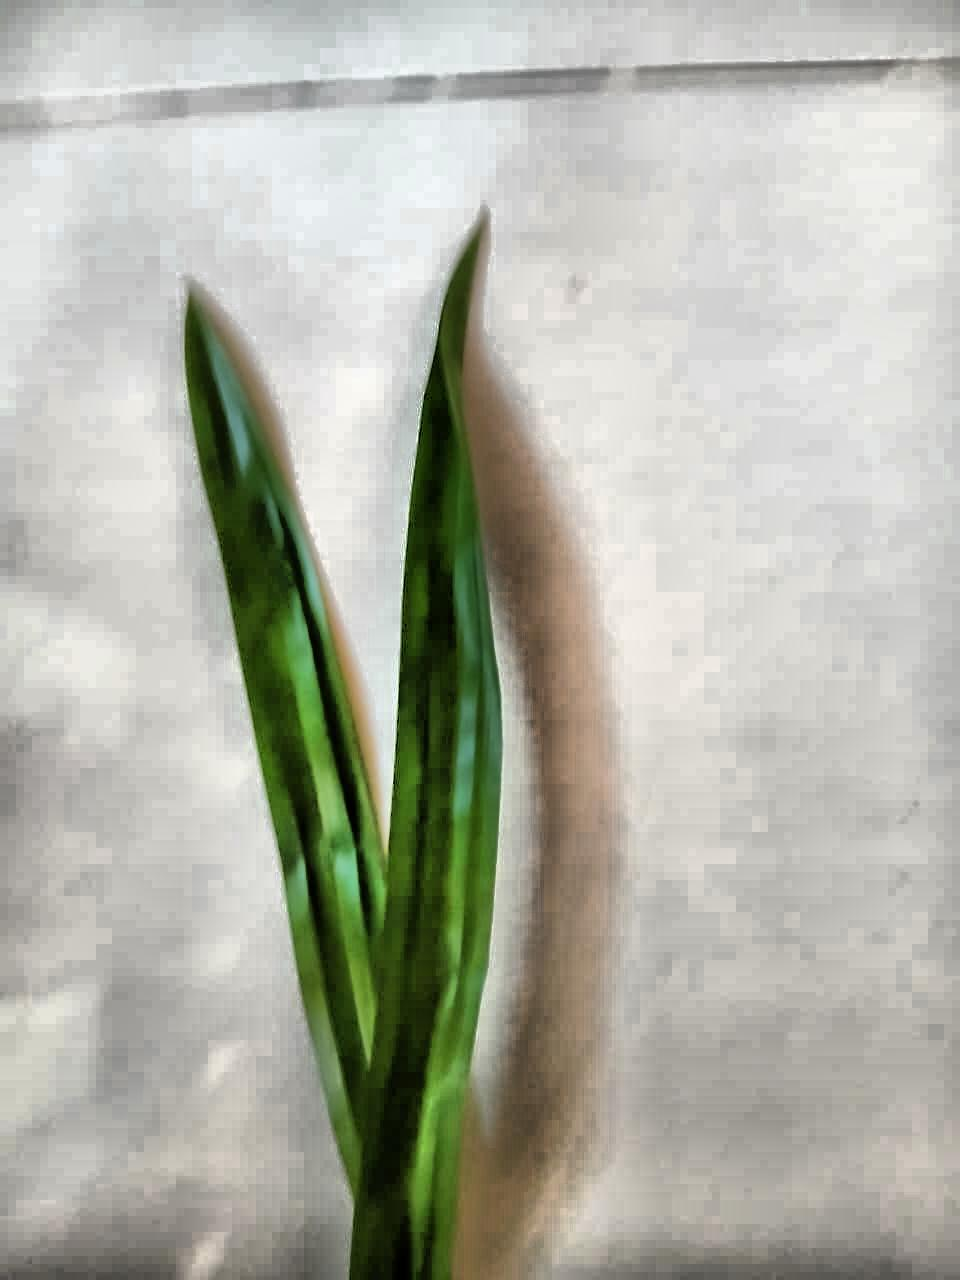daun pandan: (350, 231, 500, 1279)
